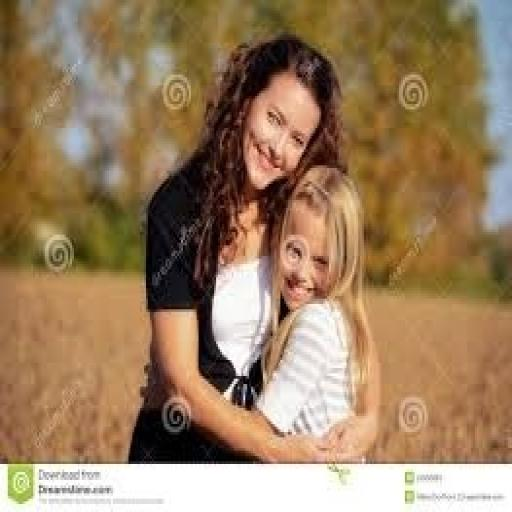hugging: (126, 29, 380, 464), (245, 160, 380, 464)
